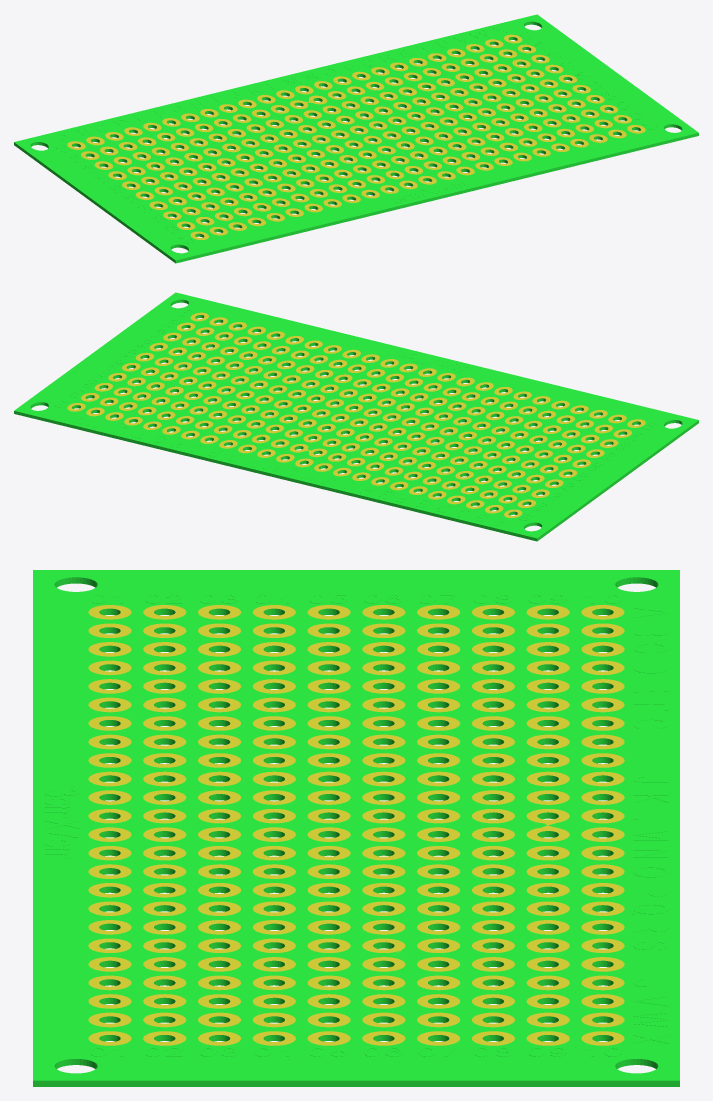
Rendered from pcb.fbx.
3 renders of one model, top to bottom at view 1: azimuth 30°, elevation 25°; view 2: azimuth 150°, elevation 25°; view 3: azimuth 270°, elevation 25°, orthographic. The views are drawn at different scales.
Visible parts, largest first — view 1: Object; view 2: Object; view 3: Object.
Boxes of the visible parts, x1,y1,x2,y2 form: Object: (14,14,698,263); Object: (14,292,698,541); Object: (33,570,679,1086).
Bounding box in the file's own units: 282 × 1.65 × 151.
